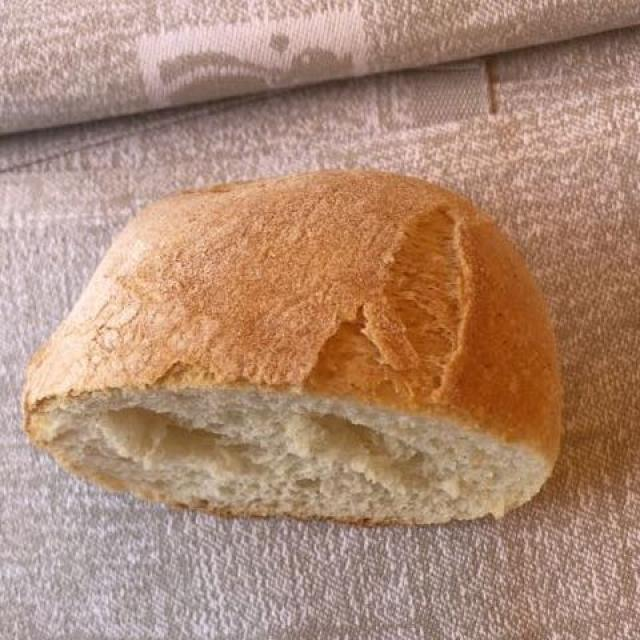bread-white: (31, 171, 562, 523)
